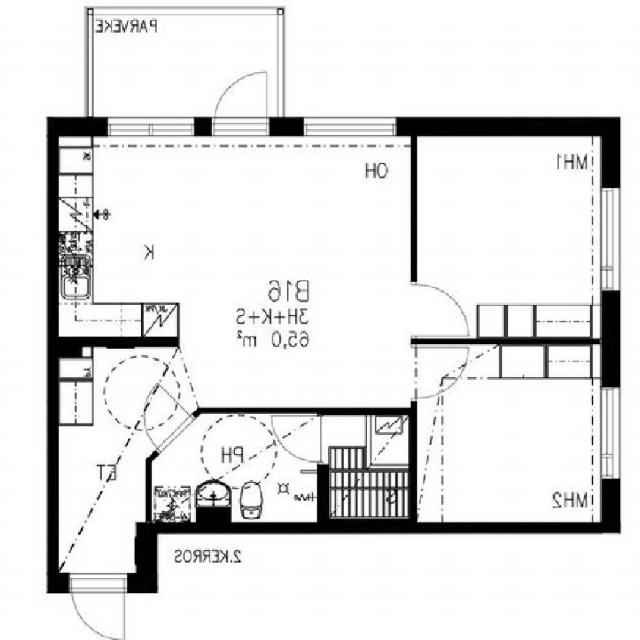door: (124, 383, 194, 452), (215, 66, 266, 135), (72, 573, 123, 640), (411, 284, 469, 336), (411, 348, 469, 399), (272, 416, 329, 461)
